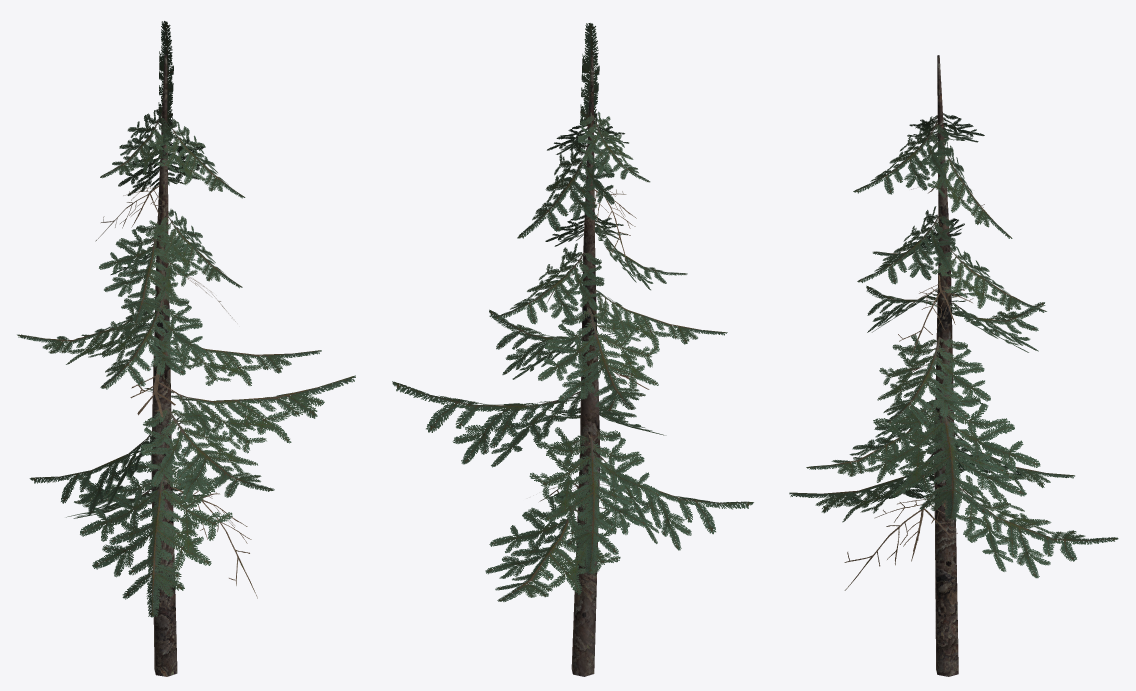
The model's file is pine_tree_01_c.glb.
3 views of the same model, side by side, from view 1: azimuth 30°, elevation 25°; view 2: azimuth 150°, elevation 25°; view 3: azimuth 270°, elevation 25° (orthographic).
Visible parts, largest first — view 1: pine_tree_01_c; view 2: pine_tree_01_c; view 3: pine_tree_01_c.
Part boxes in pixels (x1=…): pine_tree_01_c: x1=17, y1=21, x2=355, y2=676; pine_tree_01_c: x1=392, y1=23, x2=753, y2=676; pine_tree_01_c: x1=789, y1=55, x2=1118, y2=676.
Bounding box in the file's own units: 2.46 × 5.12 × 2.39.
Materials: 2 (2 with a texture image).
